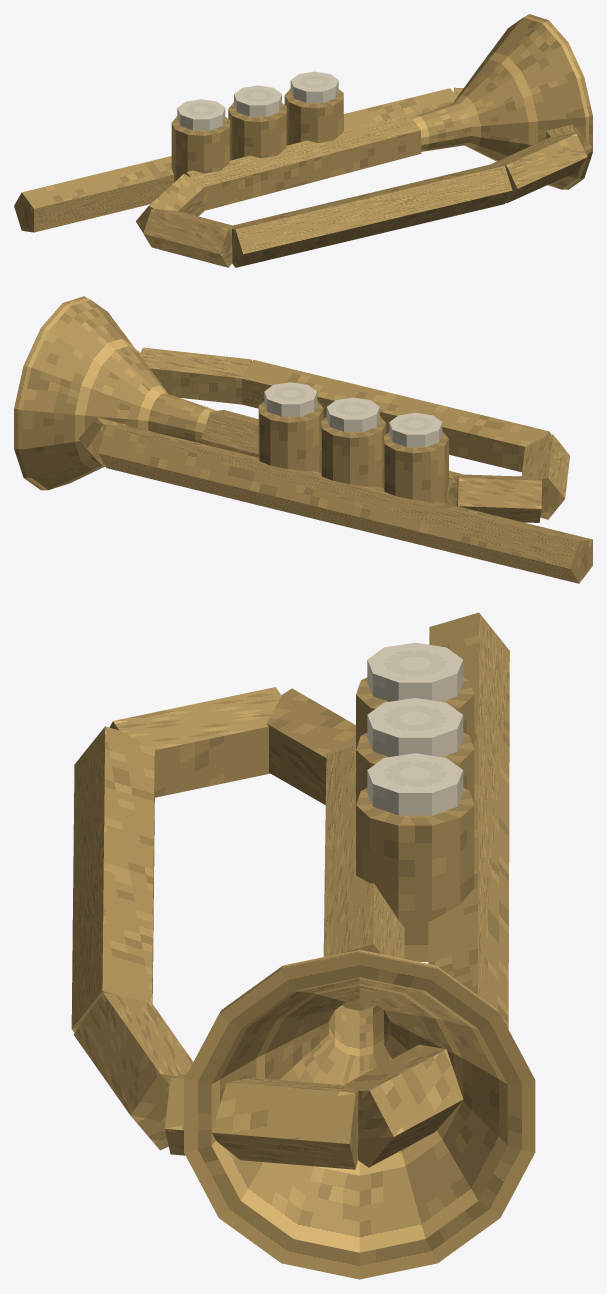
Rendered from trumpet.glb.
3 renders of one model, top to bottom at view 1: azimuth 30°, elevation 25°; view 2: azimuth 150°, elevation 25°; view 3: azimuth 270°, elevation 25°, orthographic. The views are drawn at different scales.
Visible parts, largest first — view 1: block_open flared bell, block_bent brass tubing 4, block_bent brass tubing 7, block_bent brass tubing 0, block_piston valve (×3), block_finger button (×3), block_bent brass tubing 5, block_bent brass tubing 3, block_bent brass tubing 6, block_bent brass tubing 2; view 2: block_bent brass tubing 0, block_open flared bell, block_piston valve (×3), block_bent brass tubing 4, block_finger button (×3), block_bent brass tubing 3, block_bent brass tubing 6, block_bent brass tubing 5, block_bent brass tubing 7, block_bent brass tubing 1; view 3: block_open flared bell, block_bent brass tubing 4, block_bent brass tubing 0, block_piston valve (×3), block_finger button (×3), block_bent brass tubing 2, block_bent brass tubing 5, block_bent brass tubing 3, block_bent brass tubing 7, block_bent brass tubing 1, block_bent brass tubing 6.
Boxes of the visible parts, <box> form: block_open flared bell: <box>411,14,592,189</box>; block_bent brass tubing 4: <box>232,164,512,267</box>; block_bent brass tubing 7: <box>185,113,421,210</box>; block_bent brass tubing 0: <box>14,88,455,232</box>; block_piston valve (×3): <box>171,88,343,182</box>; block_finger button (×3): <box>177,71,338,130</box>; block_bent brass tubing 5: <box>143,208,232,267</box>; block_bent brass tubing 3: <box>490,133,587,203</box>; block_bent brass tubing 6: <box>136,174,203,232</box>; block_bent brass tubing 2: <box>546,124,592,155</box>; block_bent brass tubing 0: <box>98,425,592,583</box>; block_open flared bell: <box>14,296,216,490</box>; block_piston valve (×3): <box>258,401,448,503</box>; block_bent brass tubing 4: <box>242,359,551,472</box>; block_finger button (×3): <box>264,382,442,447</box>; block_bent brass tubing 3: <box>141,347,251,404</box>; block_bent brass tubing 6: <box>456,474,541,522</box>; block_bent brass tubing 5: <box>521,434,569,519</box>; block_bent brass tubing 7: <box>201,410,463,505</box>; block_bent brass tubing 1: <box>79,417,125,466</box>; block_open flared bell: <box>184,949,535,1279</box>; block_bent brass tubing 4: <box>71,726,154,1032</box>; block_bent brass tubing 0: <box>428,612,509,1028</box>; block_piston valve (×3): <box>356,677,474,961</box>; block_finger button (×3): <box>367,642,463,815</box>; block_bent brass tubing 2: <box>164,1075,358,1169</box>; block_bent brass tubing 5: <box>109,687,281,797</box>; block_bent brass tubing 3: <box>73,992,193,1150</box>; block_bent brass tubing 7: <box>323,745,404,1010</box>; block_bent brass tubing 1: <box>344,1044,463,1167</box>; block_bent brass tubing 6: <box>266,688,355,804</box>.
Size of the model in its own units: 0.5 by 0.1536 by 0.1976.
2 materials, 2 textured.
